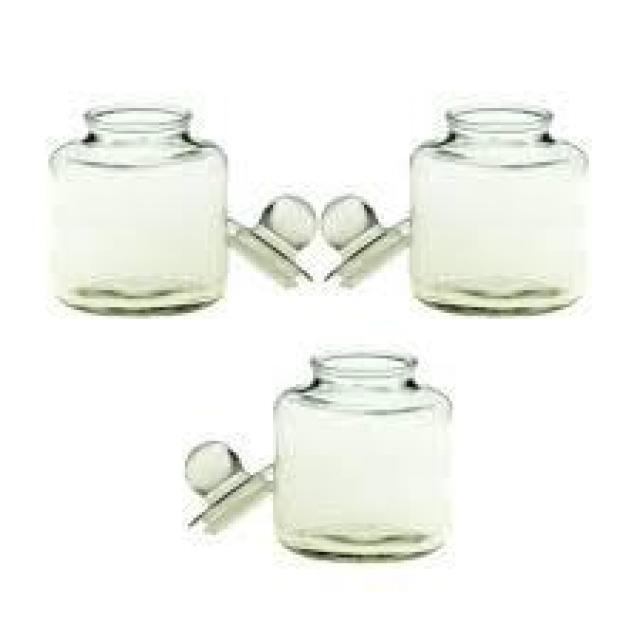glass: (44, 98, 229, 326)
